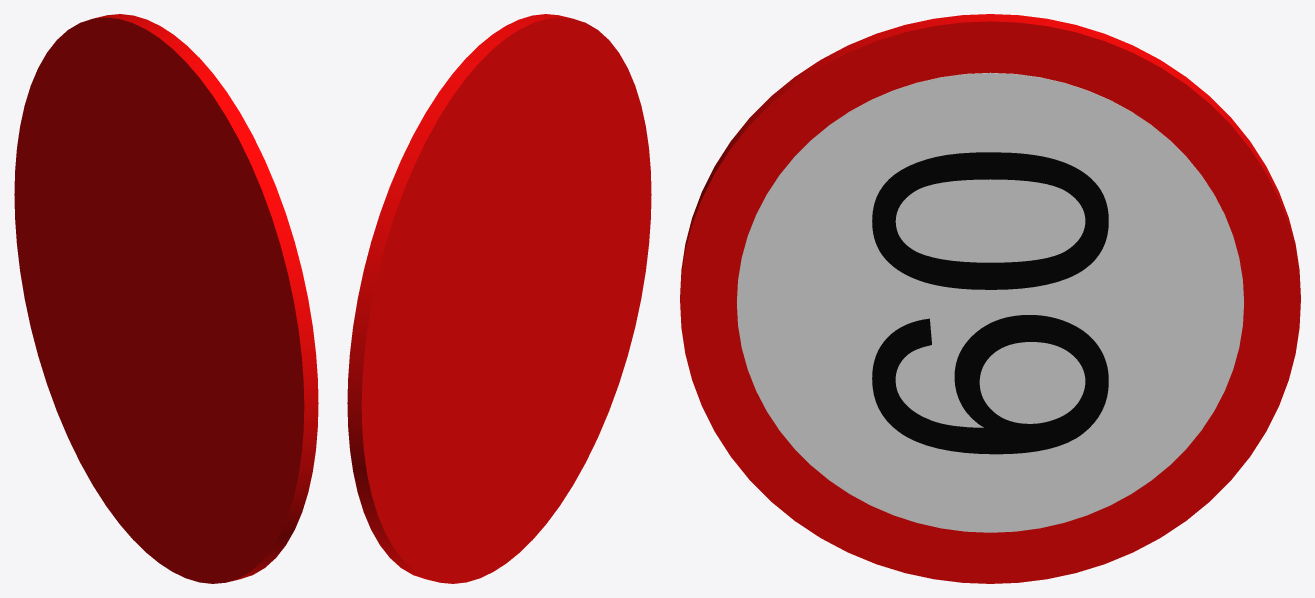
The picture shows the model from 3 angles, left to right: view 1: azimuth 30°, elevation 25°; view 2: azimuth 150°, elevation 25°; view 3: azimuth 270°, elevation 25°; orthographic projection. The views are drawn at different scales.
Visible parts, largest first — view 1: 限速60; view 2: 限速60; view 3: 限速60.
Part boxes in pixels (x1,y1,x2,y2): 限速60: (14, 14, 318, 583); 限速60: (347, 14, 651, 583); 限速60: (680, 14, 1300, 583).
Size of the model in its own units: 0.0247 by 0.7737 by 0.7737.
